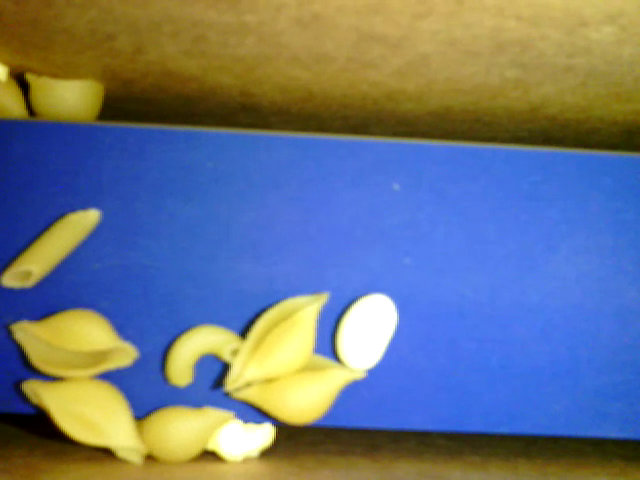elbow: (165, 324, 245, 386)
penne: (1, 209, 101, 288)
shell: (20, 379, 149, 468), (222, 290, 332, 389), (224, 351, 365, 427), (10, 308, 140, 381), (131, 405, 234, 462), (22, 72, 108, 123)
